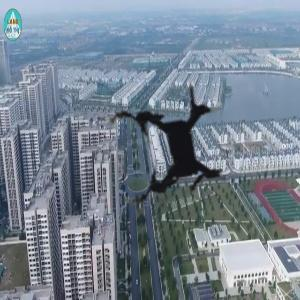drone: (66, 44, 280, 258)
